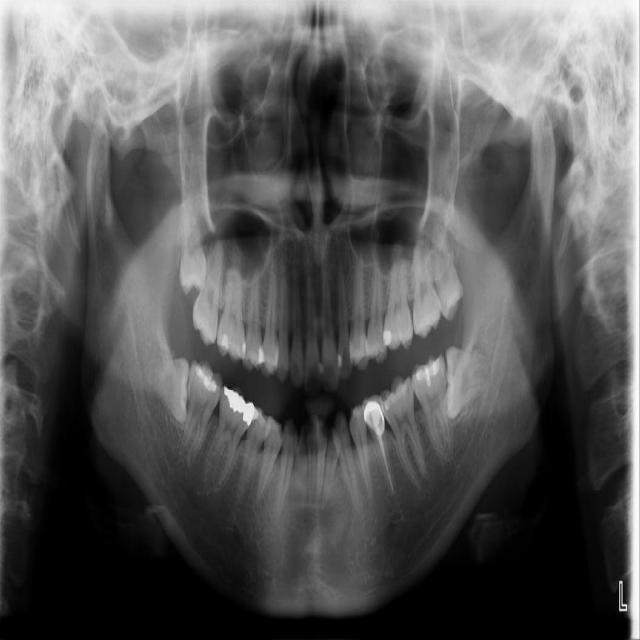Crown: (361, 394, 385, 434)
Filling: (219, 385, 254, 431), (382, 375, 416, 414), (190, 361, 223, 395), (411, 356, 446, 386), (247, 403, 272, 441), (349, 337, 373, 363), (218, 331, 243, 355), (244, 346, 263, 367), (380, 330, 391, 344)
Root Canal Treatment: (380, 441, 394, 495)
impacted tooth: (445, 346, 498, 416), (177, 182, 209, 290), (137, 359, 191, 421)
